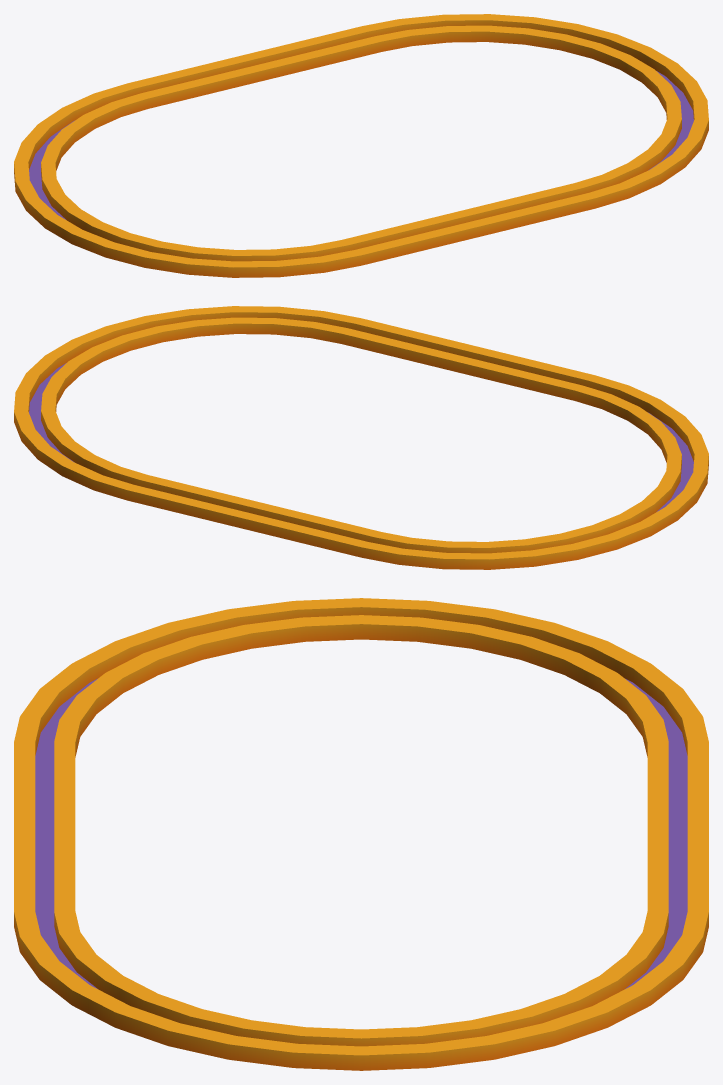
The model's file is Gound_Socket_06_v02.fbx.
3 views of the same model, one above another, from view 1: azimuth 30°, elevation 25°; view 2: azimuth 150°, elevation 25°; view 3: azimuth 270°, elevation 25° (orthographic). The views are drawn at different scales.
Visible parts, largest first — view 1: Obstacle_Gound_Socket_06_v02; view 2: Obstacle_Gound_Socket_06_v02; view 3: Obstacle_Gound_Socket_06_v02.
Boxes of the visible parts, x1,y1,x2,y2 form: Obstacle_Gound_Socket_06_v02: (14, 14, 708, 277); Obstacle_Gound_Socket_06_v02: (14, 306, 708, 569); Obstacle_Gound_Socket_06_v02: (14, 598, 708, 1070).
Size of the model in its own units: 318 by 5 by 204.
Materials: 1 (1 with a texture image).
